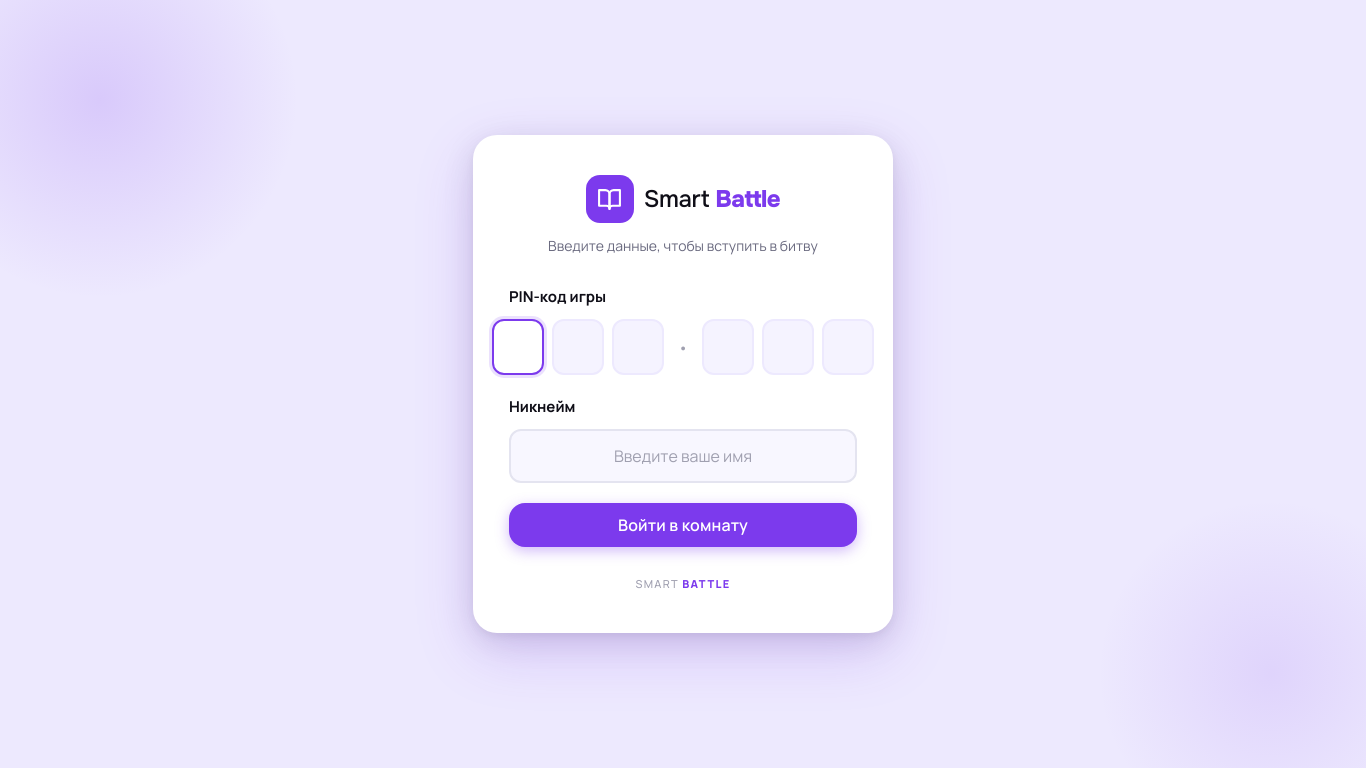
Scenario: JoinPage › validation › shows nickname error when nickname is empty
The image size is (1366, 768).
Type "1" into the 1st field at coordinates (518, 347), box left=492, top=319, right=544, bottom=375
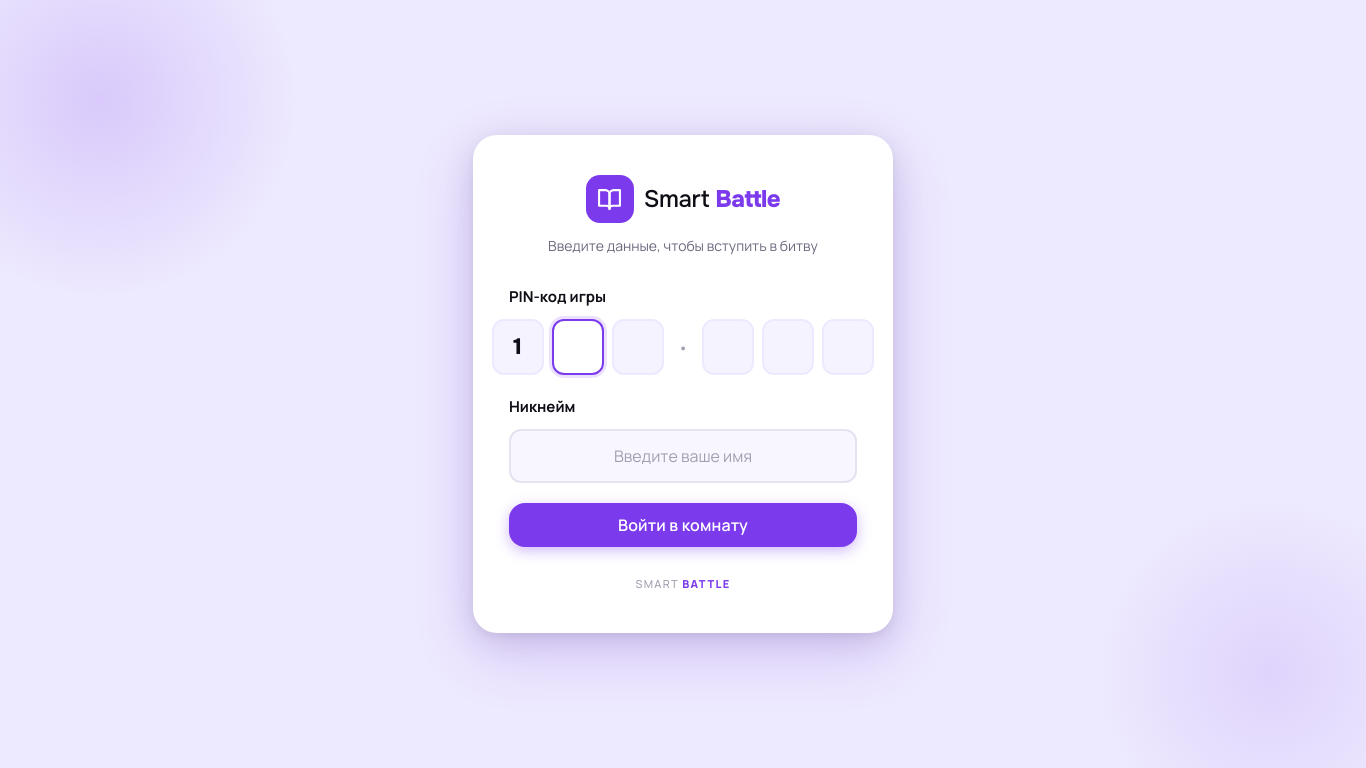
Type "2" into the 2nd field at coordinates (578, 347), box left=552, top=319, right=604, bottom=375
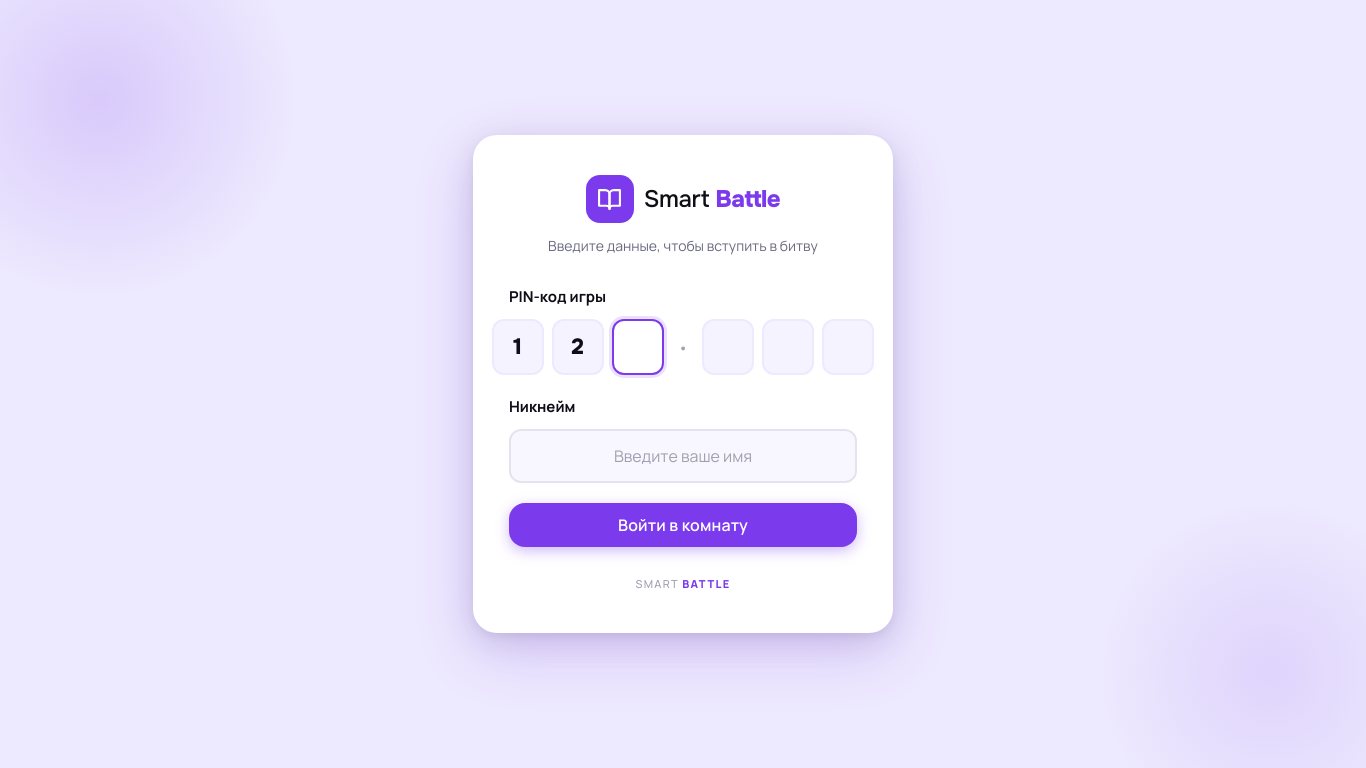
Type "3" into the 3rd field at coordinates (638, 347), box left=612, top=319, right=664, bottom=375
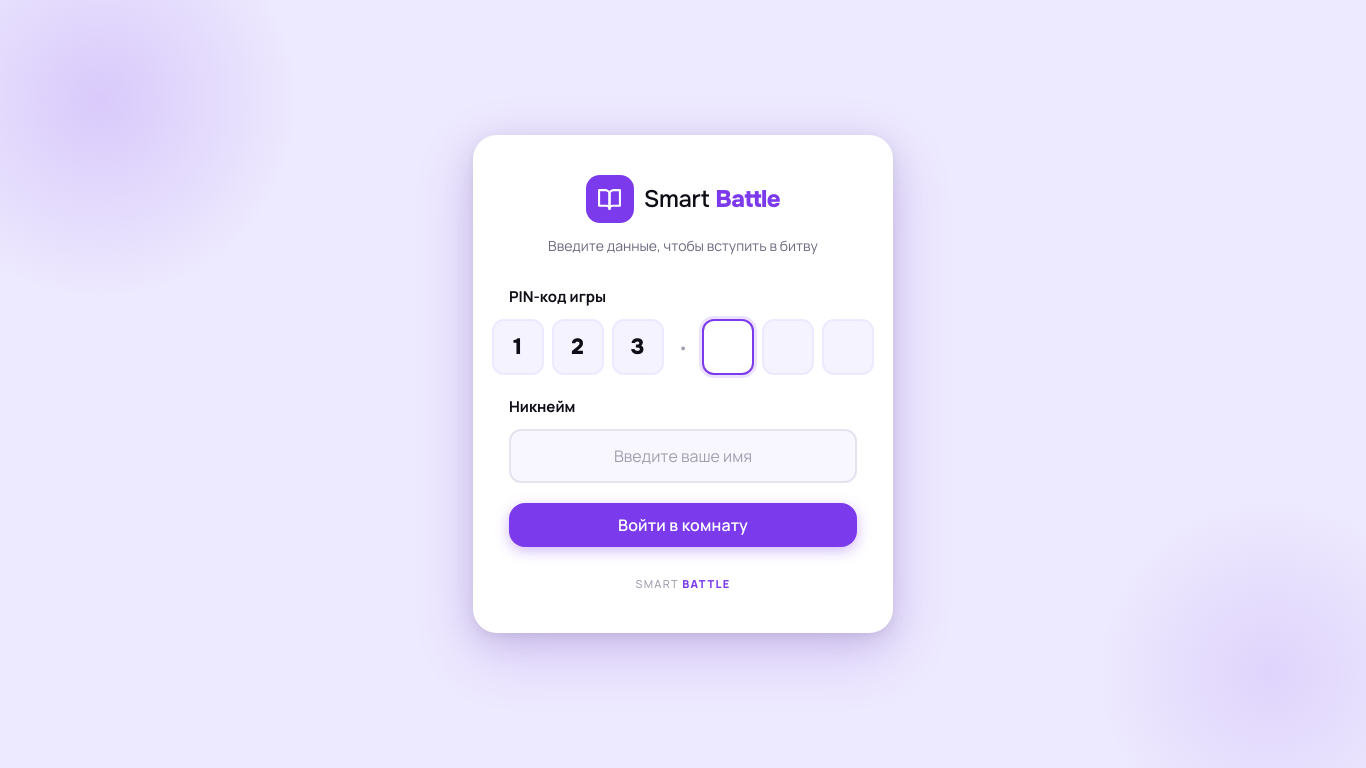
Type "4" into the 4th field at coordinates (728, 347), box left=702, top=319, right=754, bottom=375
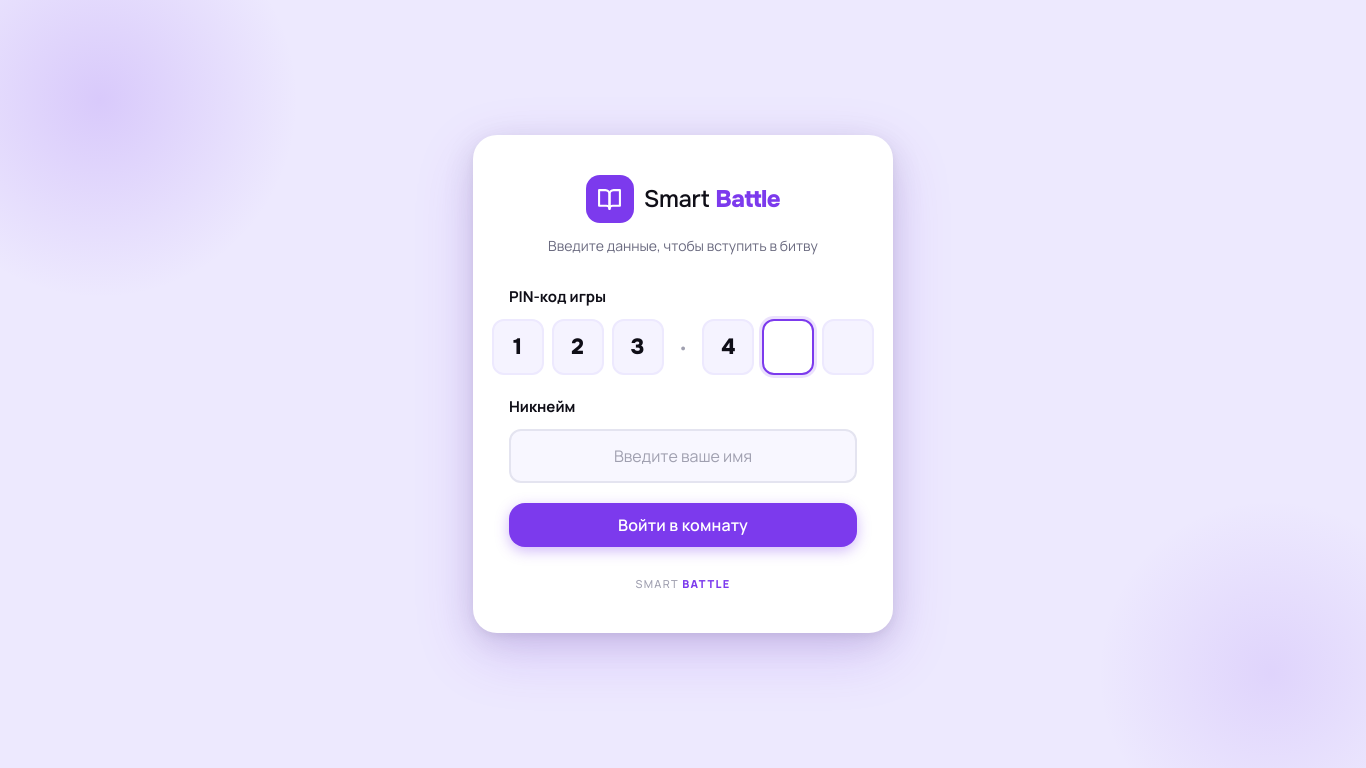
Type "5" into the 5th field at coordinates (788, 347), box left=762, top=319, right=814, bottom=375
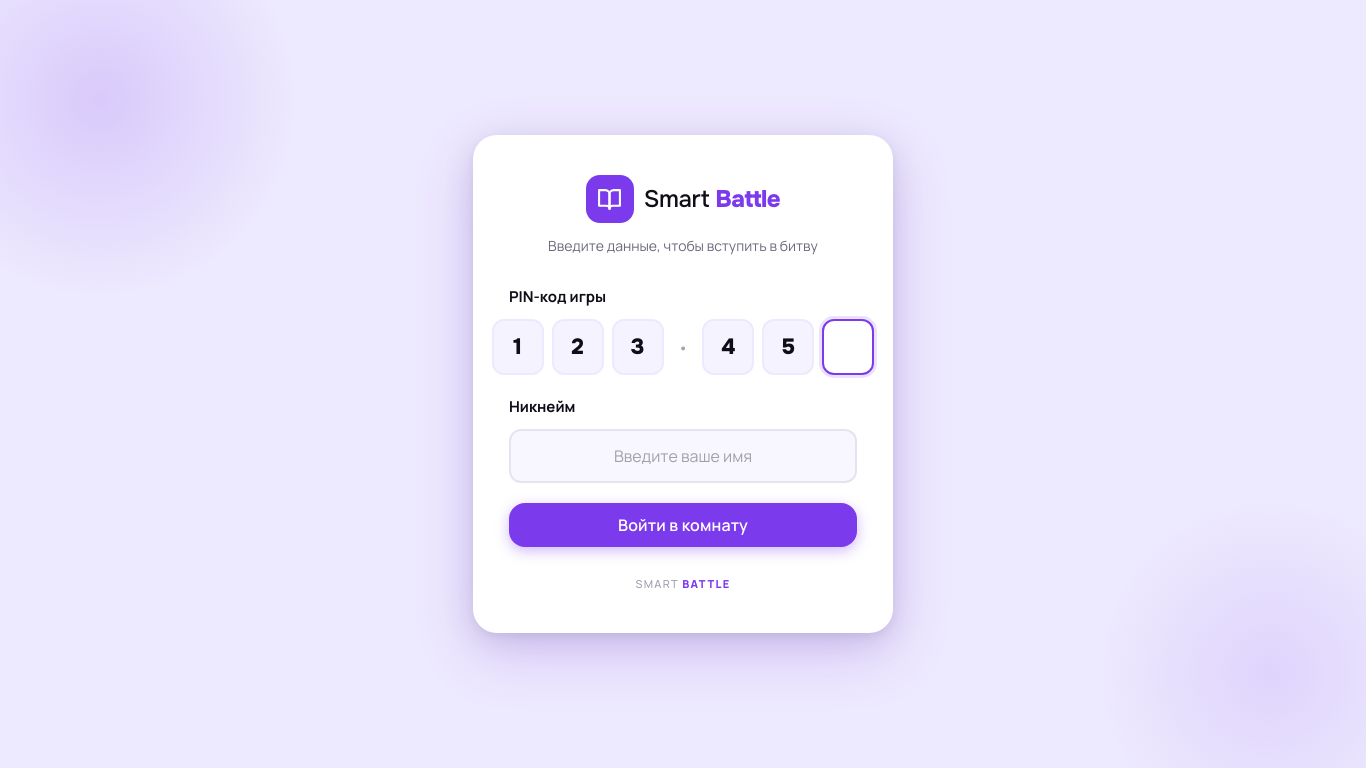
Type "6" into the 6th field at coordinates (848, 347), box left=822, top=319, right=874, bottom=375
Click the button "Войти в комнату" at coordinates (683, 525), box left=509, top=503, right=857, bottom=547
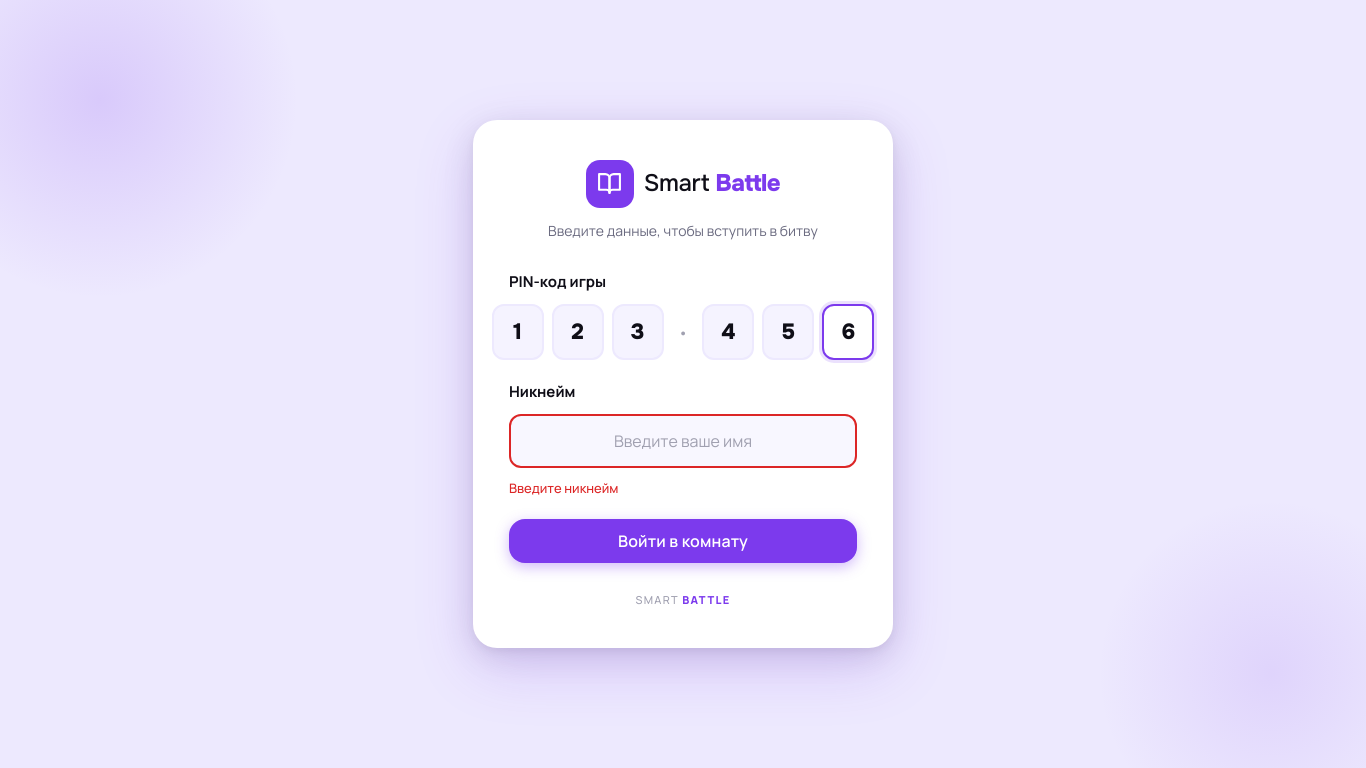
Result: the text "Введите никнейм" is shown at left=509, top=479, right=618, bottom=497
